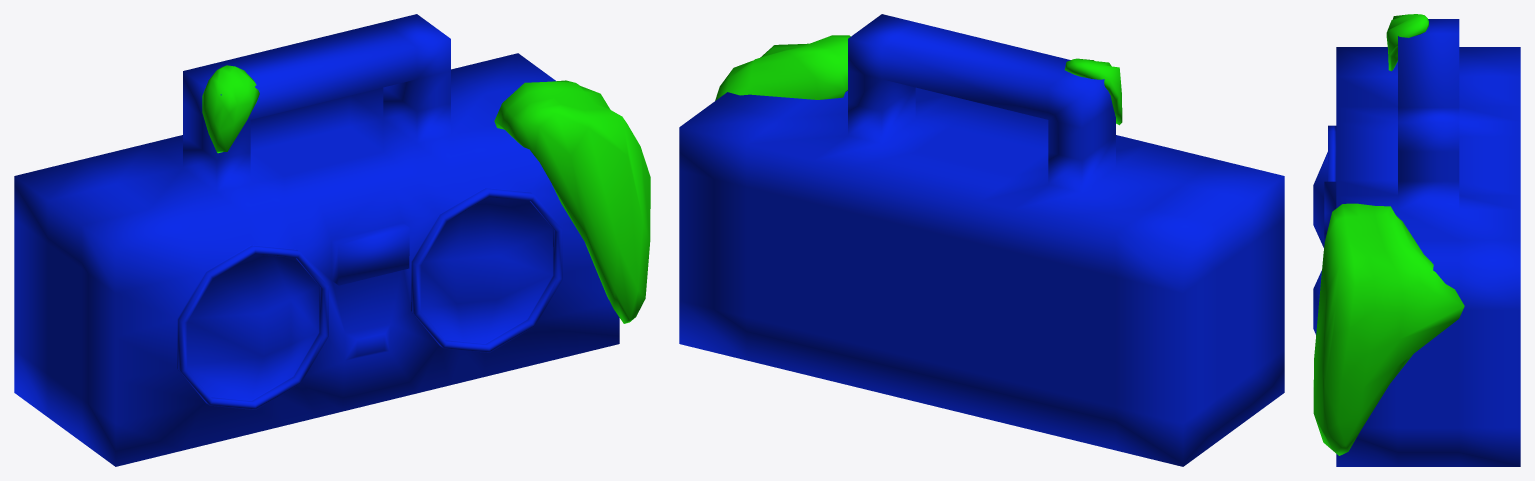
The model's file is Boombox Slime.fbx.
The picture shows the model from 3 angles, left to right: view 1: azimuth 30°, elevation 25°; view 2: azimuth 150°, elevation 25°; view 3: azimuth 270°, elevation 25°; orthographic projection. The views are drawn at different scales.
Visible parts, largest first — view 1: Boombox Slime; view 2: Boombox Slime; view 3: Boombox Slime.
Part boxes in pixels (x1,y1,x2,y2): Boombox Slime: [14, 14, 650, 466]; Boombox Slime: [679, 14, 1284, 466]; Boombox Slime: [1313, 14, 1520, 466].
Size of the model in its own units: 228 by 132 by 83.78.
